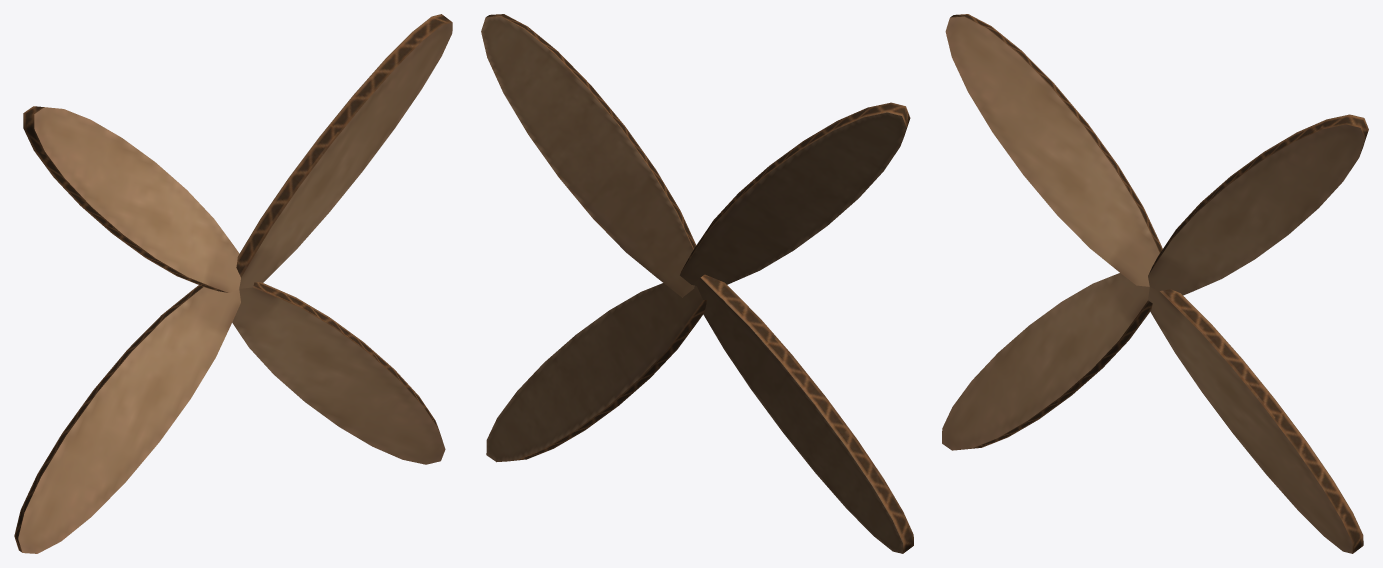
Rendered from luoxuanjiang(1).fbx.
The picture shows the model from 3 angles, left to right: view 1: azimuth 30°, elevation 25°; view 2: azimuth 150°, elevation 25°; view 3: azimuth 330°, elevation 25°; orthographic projection.
Visible parts, largest first — view 1: luoxuanjiang; view 2: luoxuanjiang; view 3: luoxuanjiang.
Part boxes in pixels (x1,y1,x2,y2): luoxuanjiang: (14,14,452,553); luoxuanjiang: (481,14,913,553); luoxuanjiang: (942,14,1368,553).
Size of the model in its own units: 139 by 139 by 13.26.
